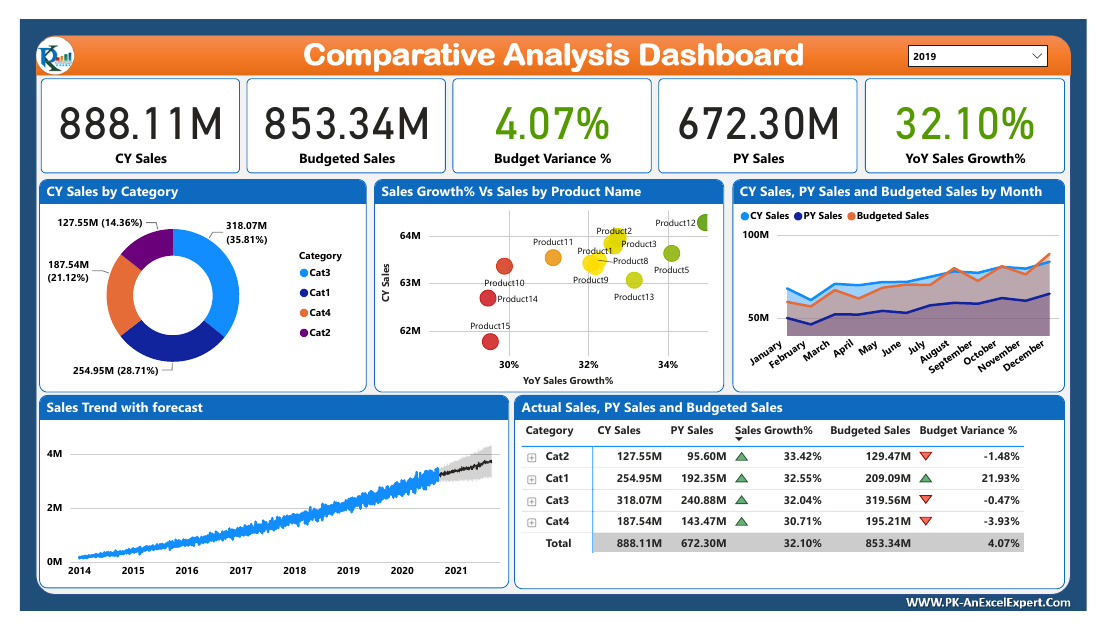

What the dashboard file says about the page in this screenshot:
{"tool":"powerbi","page":{"name":"Dashboard","canvas":[1280,720],"ordinal":0},"visuals":[{"type":"slicer","fields":{"Values":["Date Dim.Year","Date Dim.Qtr","Date Dim.Month"]},"box":[1055.8,20.3,187.4,50],"z":0},{"type":"card","fields":{"Values":["Sales.Total Sales"]},"box":[25,70.3,239,114],"z":0,"group":"g1"},{"type":"card","fields":{"Values":["Sales.Budgeted Sales"]},"box":[272.3,70.3,238.6,113.6],"z":1000,"group":"g1"},{"type":"scatterChart","title":"Sales Growth% Vs Sales by Product Name","fields":{"Category":["Product Master.Product Name"],"Y":["Sales.Total Sales"],"X":["Sales.YoY Sales Growth%"]},"box":[424.8,190.5,420.1,256],"z":1000},{"type":"card","fields":{"Values":["Sales.Budget Variance %"]},"box":[519.3,70.3,238.6,113.6],"z":2000,"group":"g1"},{"type":"lineChart","title":"Sales Trend with forecast","fields":{"Y":["Sales.Total Sales"],"Category":["Date Dim.Date"]},"box":[23.4,450.2,563.9,232.3],"z":2000},{"type":"card","fields":{"Values":["Sales.PY Sales"]},"box":[766.3,70.3,239,114],"z":3000,"group":"g1"},{"type":"donutChart","fields":{"Category":["Product Master.Category"],"Y":["Sales.Total Sales"]},"box":[23.4,190.5,392.5,256.3],"z":3000},{"type":"group","id":"g1","title":"Group 1","box":[25,70.3,1229.2,114],"z":4000},{"type":"card","fields":{"Values":["Sales.YoY Sales Growth%"]},"box":[1013.6,70.3,240.5,114],"z":4000,"group":"g1"},{"type":"areaChart","fields":{"Category":["Date Dim.Month"],"Y":["Sales.Total Sales","Sales.PY Sales","Sales.Budgeted Sales"]},"box":[855.2,190.5,398.9,256],"z":5000},{"type":"pivotTable","title":"Actual Sales, PY Sales and Budgeted Sales","fields":{"Rows":["Product Master.Category","Product Master.Product Name"],"Values":["Sales.Total Sales","Sales.PY Sales","Sales.YoY Sales Growth%","Sales.Budgeted Sales","Sales.Budget Variance %"]},"box":[593.5,449.8,660.7,232.7],"z":6000}]}

Visuals, with their boxes in screenshot pixels (x1, y1, x2, y2), scaled from the page's 1280x720 canvas onto the 1107x640 screenshot:
slicer - Date Dim.Year x Date Dim.Qtr: 913/18/1075/62
card - Sales.Total Sales: 22/62/228/164
card - Sales.Budgeted Sales: 235/62/442/163
"Sales Growth% Vs Sales by Product Name" scatterChart: 367/169/731/397
card - Sales.Budget Variance %: 449/62/655/163
"Sales Trend with forecast" lineChart: 20/400/508/607
card - Sales.PY Sales: 663/62/869/164
donutChart - Product Master.Category x Sales.Total Sales: 20/169/360/397
"Group 1" group: 22/62/1085/164
card - Sales.YoY Sales Growth%: 877/62/1085/164
areaChart - Date Dim.Month x Sales.Total Sales: 740/169/1085/397
"Actual Sales, PY Sales and Budgeted Sales" pivotTable: 513/400/1085/607
